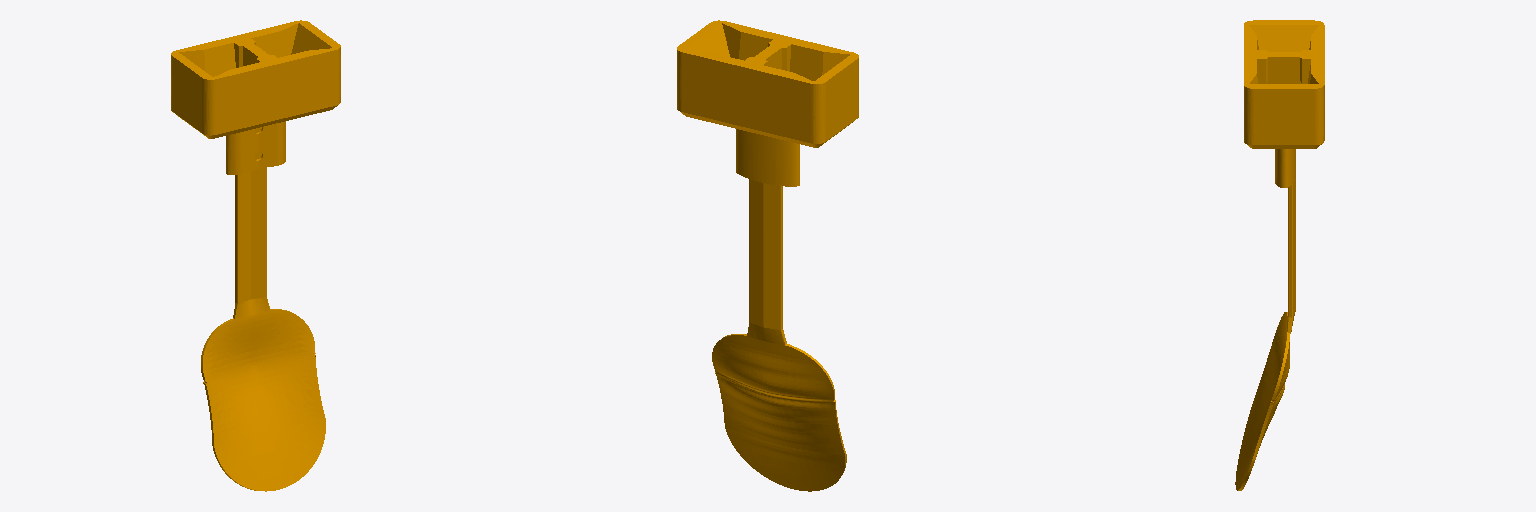
The robot description file, URDF, robot "spoon_flatten":
<?xml version="1.0"?>

<robot name="spoon_flatten">
  <link name="spoon_flatten_frame">
    <visual>
      <geometry>
        <mesh filename="package://iai_kitchen/meshes/racks/BoxyToolholder/holder_spoon_flat.stl"/>
      </geometry>
    </visual>
  </link>
</robot>

--- Render facts (derived) ---
The picture shows the robot from 3 angles, left to right: view 1: azimuth 30°, elevation 25°; view 2: azimuth 150°, elevation 25°; view 3: azimuth 270°, elevation 25°; orthographic projection.
Robot: spoon_flatten — 1 links, 0 joints (none); root link spoon_flatten_frame; default pose: all joints at 0.
Visible links, largest first — view 1: spoon_flatten_frame; view 2: spoon_flatten_frame; view 3: spoon_flatten_frame.
Boxes of the visible links, x1,y1,x2,y2 form: spoon_flatten_frame: (171, 20, 340, 491); spoon_flatten_frame: (677, 20, 858, 491); spoon_flatten_frame: (1235, 20, 1324, 490).
Bounding box of the posed robot: 0.08 × 0.0441 × 0.2355 m (x, y, z).
Meshes: 1 distinct files referenced, 1 mesh visuals loaded (1 binary STL).